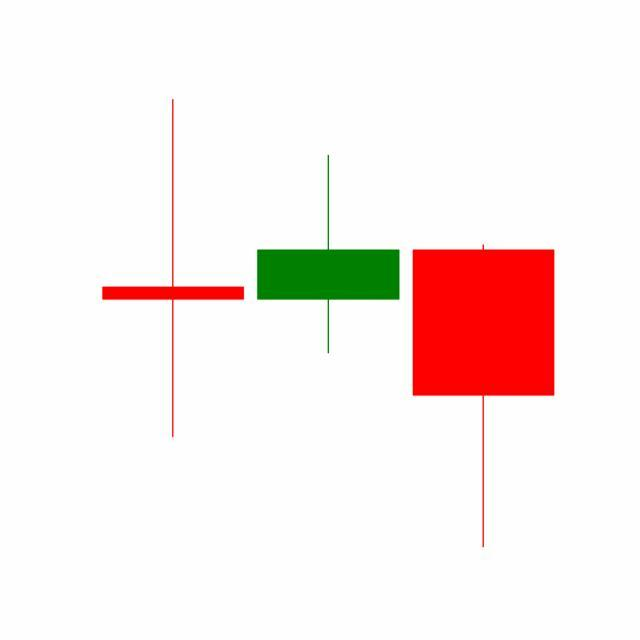Spinning Top: (250, 153, 407, 357)
